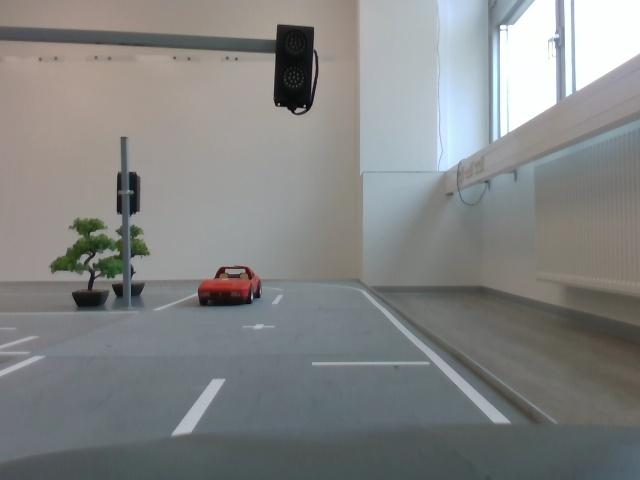car: (199, 266, 264, 306)
potted plant: (47, 208, 155, 319), (53, 214, 126, 311), (109, 227, 154, 300)
traffic light: (271, 21, 321, 121), (115, 169, 143, 220)
